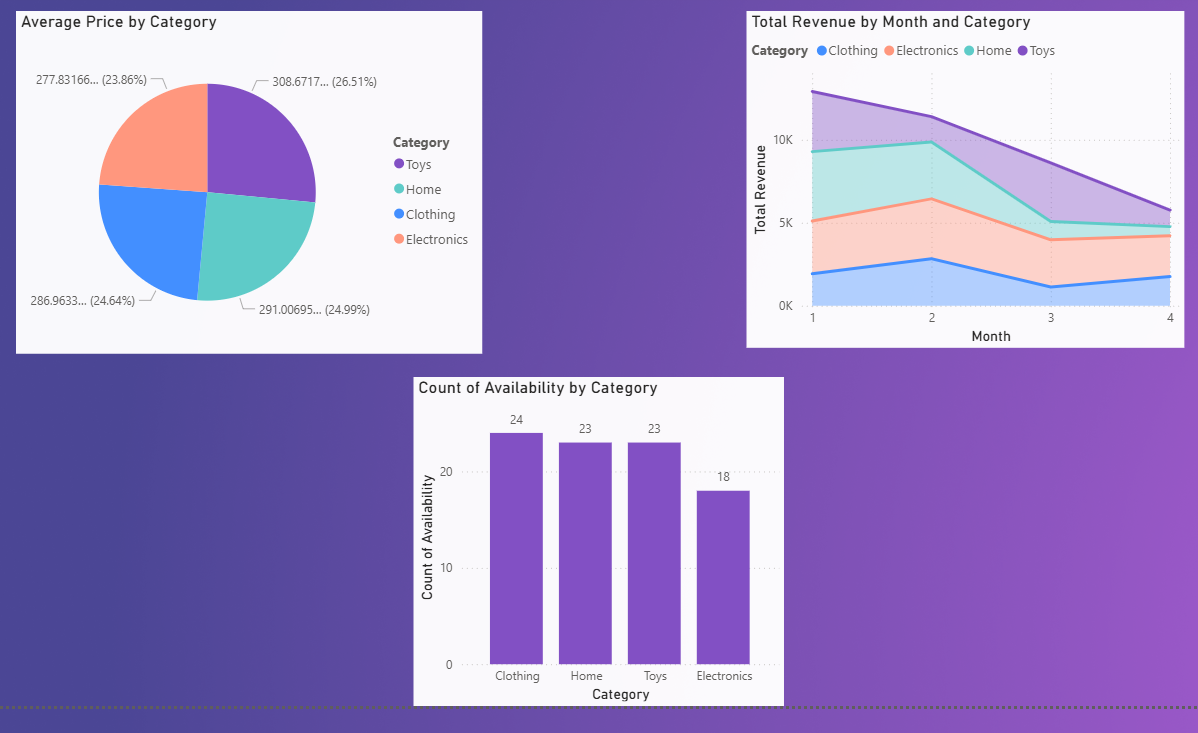

The page's visual inventory and layout, read from the dashboard file:
{"tool":"powerbi","page":{"name":"Page 2","canvas":[1280,720],"ordinal":1},"visuals":[{"type":"pieChart","fields":{"Category":["Product Table.Category"],"Y":["Product Table.Average Price"]},"box":[24.6,18.9,470.6,345.8],"z":0},{"type":"stackedAreaChart","fields":{"Category":["Date Table.Month"],"Y":["Sales Fact Table.Total Revenue"],"Series":["Product Table.Category"]},"box":[761.6,18.9,442.2,340.2],"z":1000},{"type":"clusteredColumnChart","fields":{"Category":["Product Table.Category"],"Y":["CountNonNull(Product Table.Availability)"]},"box":[425.2,387.4,374.2,332.6],"z":2000}]}

Visuals, with their boxes on the page's 1280x720 design canvas (x1, y1, x2, y2). These are canvas units, not pixel positions in the 1198x733 screenshot, which may show the page scaled, cropped or inside an application window:
pieChart - Product Table.Category x Product Table.Average Price: {"left": 25, "top": 19, "right": 495, "bottom": 365}
stackedAreaChart - Date Table.Month x Sales Fact Table.Total Revenue: {"left": 762, "top": 19, "right": 1204, "bottom": 359}
clusteredColumnChart - Product Table.Category x CountNonNull(Product Table.Availability): {"left": 425, "top": 387, "right": 799, "bottom": 720}
